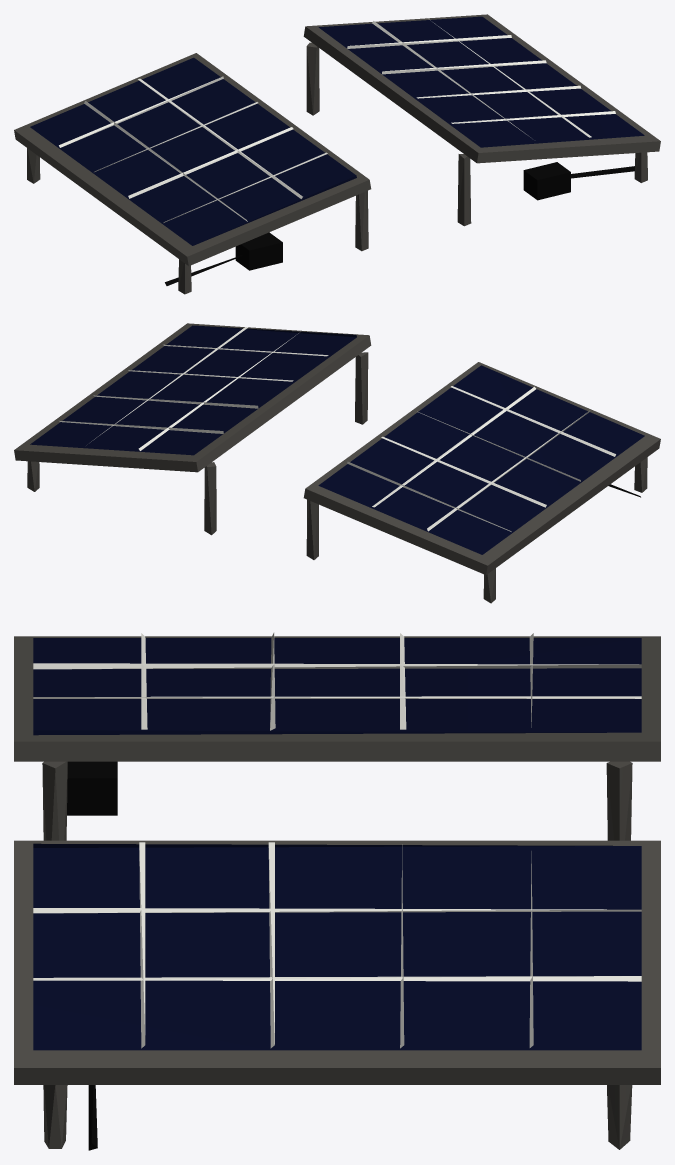
Rendered from tb_upg_solar_array.three-web-toon.lod50.glb.
3 views of the same model, one above another, from view 1: azimuth 30°, elevation 25°; view 2: azimuth 150°, elevation 25°; view 3: azimuth 270°, elevation 25° (orthographic). The views are drawn at different scales.
Visible parts, largest first — view 1: tb_upg_solar_array_mesh_lod; view 2: tb_upg_solar_array_mesh_lod; view 3: tb_upg_solar_array_mesh_lod.
Boxes of the visible parts, x1=… form: tb_upg_solar_array_mesh_lod: x1=14, y1=14, x2=660, y2=294; tb_upg_solar_array_mesh_lod: x1=14, y1=323, x2=660, y2=603; tb_upg_solar_array_mesh_lod: x1=14, y1=632, x2=660, y2=1150.
Bounding box in the file's own units: 1.98 × 0.3244 × 1.25.
